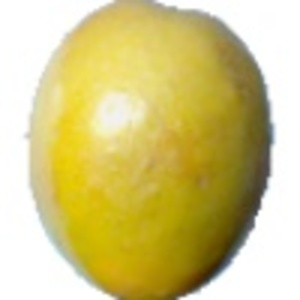maracujá: (27, 1, 278, 300)
